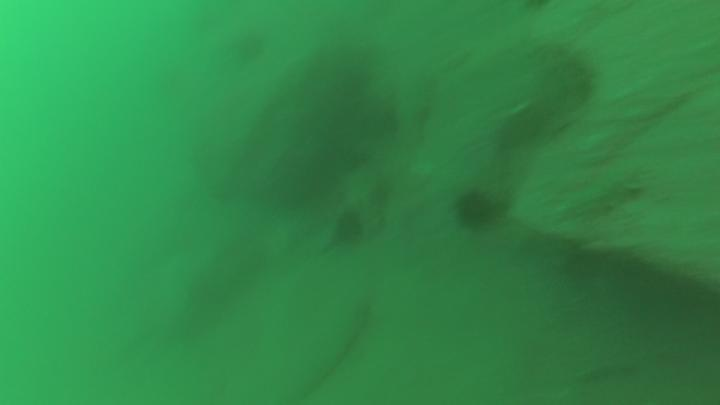echinus: (450, 180, 502, 232)
holothurian: (560, 162, 646, 223)
